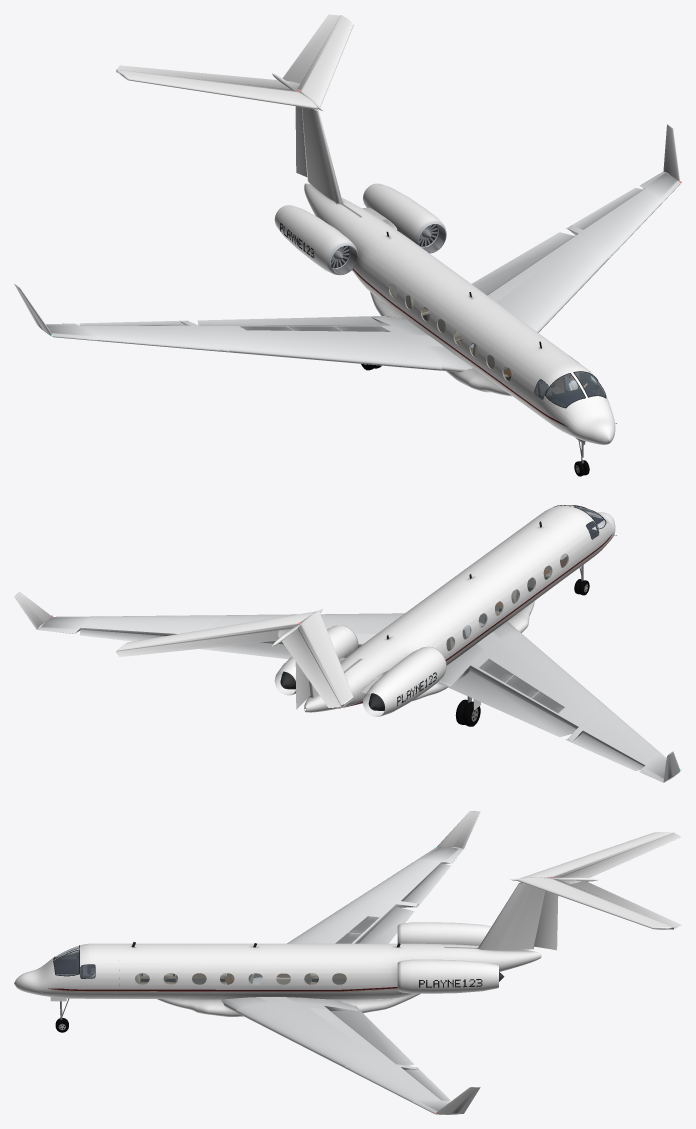
The picture shows the model from 3 angles, top to bottom: view 1: azimuth 30°, elevation 25°; view 2: azimuth 150°, elevation 25°; view 3: azimuth 270°, elevation 25°; orthographic projection. The views are drawn at different scales.
Visible parts, largest first — view 1: body, canopy, flapL, flapR, elevR, elevL, spoilerR, spoilerL; view 2: body, flapR, elevR, elevL, canopy, spoilerR, flapL, ailR, ailL, wheelR, rudder; view 3: body, canopy, flapL, elevR, rudder, flapR, elevL, ailR, spoilerL.
Part boxes in pixels (left/top/right/bottom): body: left=14, top=15, right=681, bottom=444; canopy: left=389, top=284, right=605, bottom=407; flapL: left=472, top=232, right=574, bottom=294; flapR: left=197, top=315, right=387, bottom=325; elevR: left=117, top=65, right=300, bottom=89; elevL: left=282, top=14, right=340, bottom=88; spoilerR: left=240, top=326, right=390, bottom=331; spoilerL: left=488, top=248, right=564, bottom=302; body: left=14, top=505, right=681, bottom=782; flapR: left=437, top=671, right=576, bottom=737; elevR: left=278, top=629, right=341, bottom=707; elevL: left=116, top=628, right=290, bottom=656; canopy: left=446, top=505, right=605, bottom=650; spoilerR: left=479, top=659, right=564, bottom=713; flapL: left=200, top=642, right=291, bottom=659; ailR: left=565, top=733, right=643, bottom=770; ailL: left=79, top=629, right=165, bottom=641; wheelR: left=455, top=699, right=480, bottom=726; rudder: left=295, top=662, right=310, bottom=709; body: left=14, top=811, right=674, bottom=1114; canopy: left=54, top=946, right=346, bottom=984; flapL: left=331, top=1005, right=414, bottom=1065; elevR: left=561, top=833, right=681, bottom=883; rudder: left=534, top=891, right=558, bottom=950; flapR: left=358, top=906, right=414, bottom=943; elevL: left=570, top=881, right=681, bottom=928; ailR: left=403, top=863, right=450, bottom=907; spoilerL: left=308, top=1007, right=378, bottom=1051.
Size of the model in its own units: 29.65 by 7.74 by 30.27.
